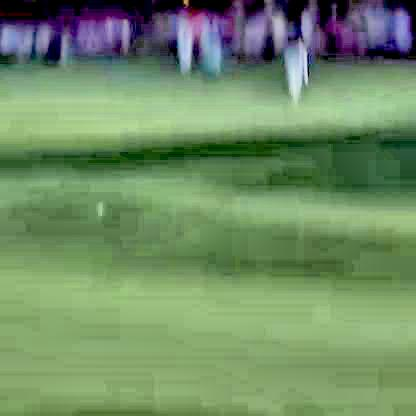golfball: (95, 195, 102, 211)
